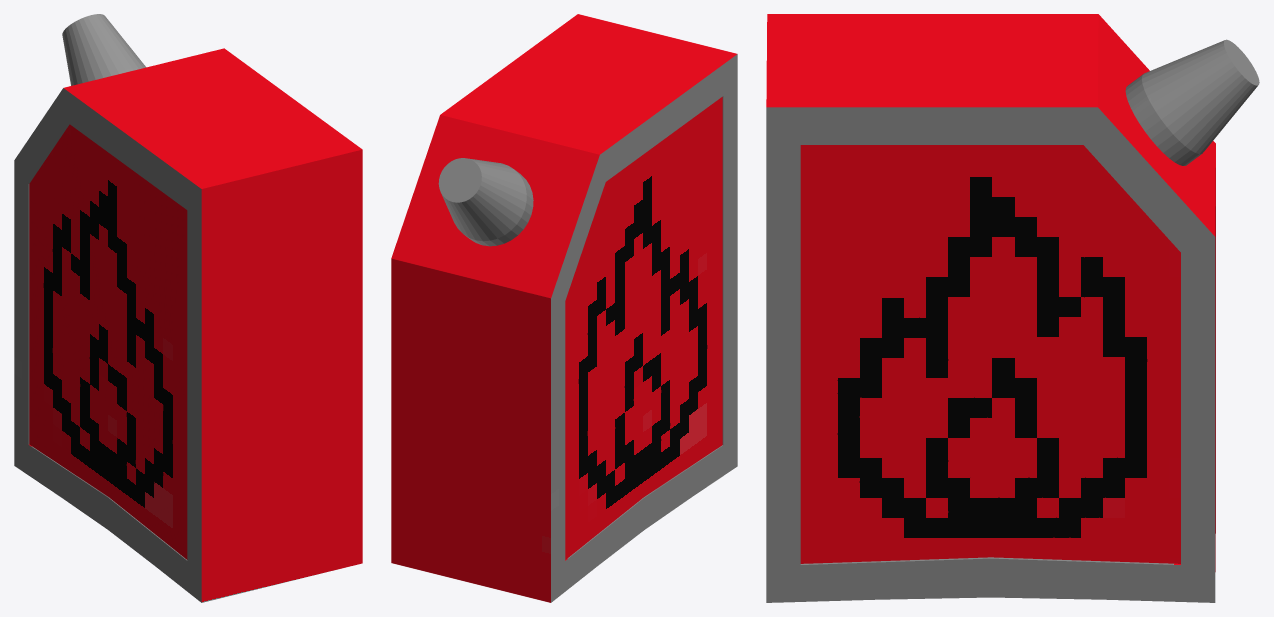
File: Combustivel.fbx
The picture shows the model from 3 angles, left to right: view 1: azimuth 30°, elevation 25°; view 2: azimuth 150°, elevation 25°; view 3: azimuth 270°, elevation 25°; orthographic projection. The views are drawn at different scales.
Parts seen in each view (by area): view 1: Gasolina; view 2: Gasolina; view 3: Gasolina.
Part boxes in pixels (bbox=[...]): Gasolina: bbox=[14, 14, 362, 602]; Gasolina: bbox=[391, 14, 737, 602]; Gasolina: bbox=[766, 14, 1259, 602].
Size of the model in its own units: 86.78 by 221 by 193.
